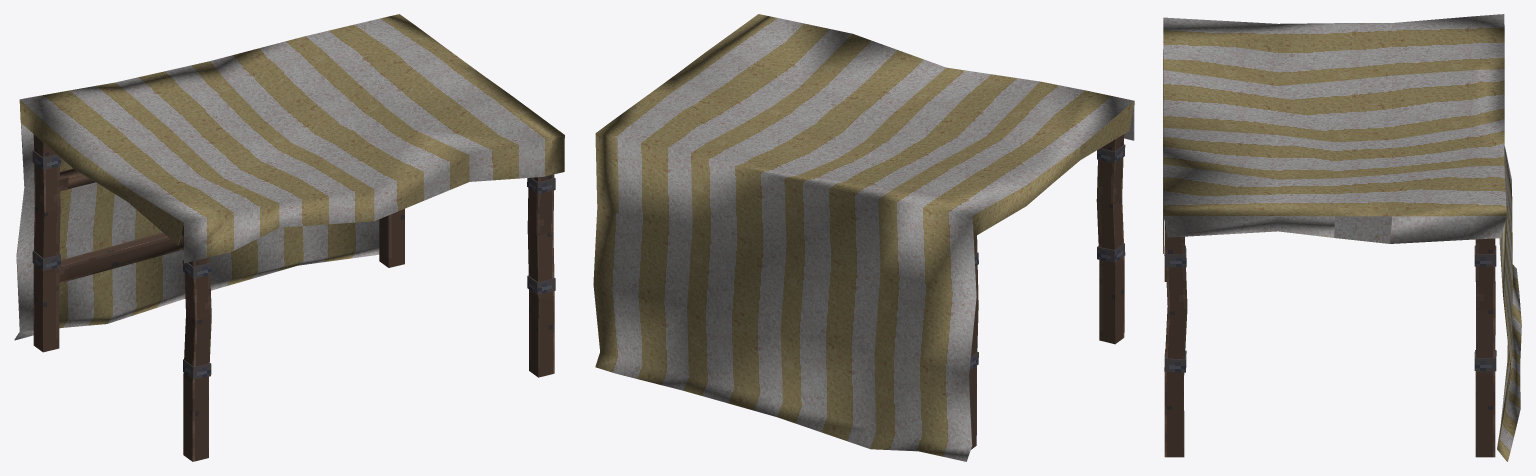
File: market_stall_yellow.glb
The picture shows the model from 3 angles, left to right: view 1: azimuth 30°, elevation 25°; view 2: azimuth 150°, elevation 25°; view 3: azimuth 270°, elevation 25°; orthographic projection. The views are drawn at different scales.
Parts seen in each view (by area): view 1: market_stall_yellow; view 2: market_stall_yellow; view 3: market_stall_yellow.
Boxes of the visible parts, x1,y1,x2,y2 form: market_stall_yellow: (14,14,564,461); market_stall_yellow: (593,14,1134,461); market_stall_yellow: (1163,14,1521,461).
Bounding box in the file's own units: 5.53 × 3.51 × 4.33.
2 materials, 2 textured.
